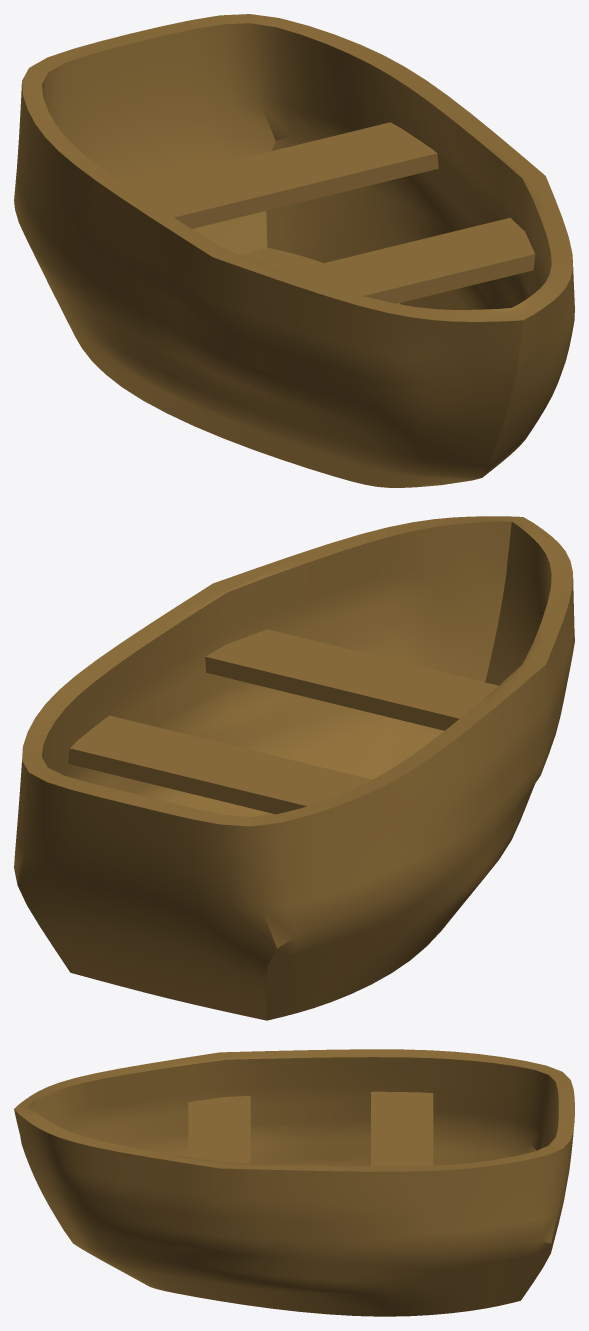
Rendered from Boat.fbx.
3 renders of one model, top to bottom at view 1: azimuth 30°, elevation 25°; view 2: azimuth 150°, elevation 25°; view 3: azimuth 270°, elevation 25°, orthographic. The views are drawn at different scales.
Parts seen in each view (by area): view 1: Cube, Cube.002, Cube.001; view 2: Cube, Cube.001, Cube.002; view 3: Cube, Cube.002, Cube.001.
Boxes of the visible parts, <box> form: Cube: <box>14,14,574,487</box>; Cube.002: <box>127,122,438,228</box>; Cube.001: <box>287,217,535,303</box>; Cube: <box>14,516,574,1020</box>; Cube.001: <box>205,629,498,730</box>; Cube.002: <box>68,715,371,814</box>; Cube: <box>14,1049,574,1316</box>; Cube.002: <box>371,1091,433,1166</box>; Cube.001: <box>188,1096,250,1163</box>.
Bounding box in the file's own units: 236 × 139 × 428.
